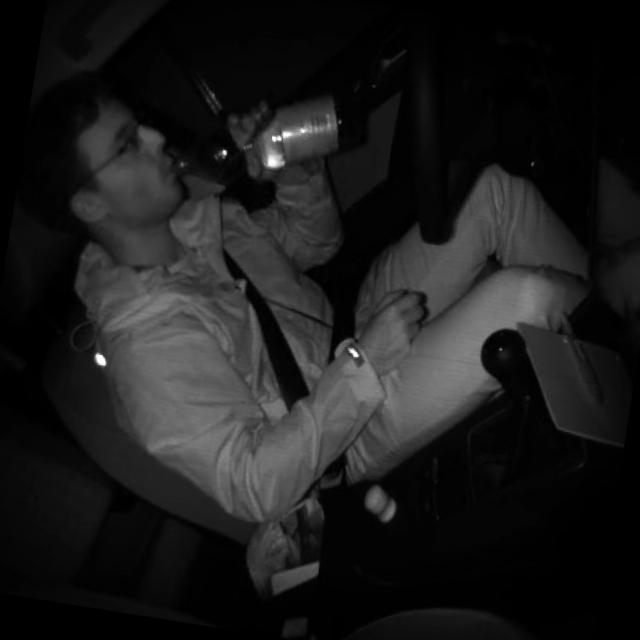pen: (546, 299, 614, 406)
